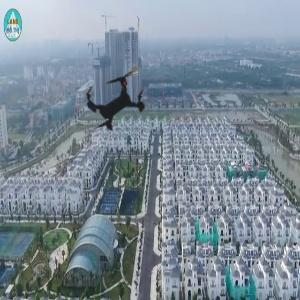drone: (61, 45, 172, 156)
